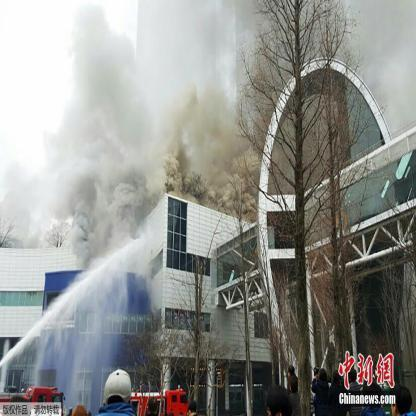smoke: (70, 7, 146, 246), (147, 1, 242, 136), (8, 152, 69, 233), (197, 140, 240, 186)
